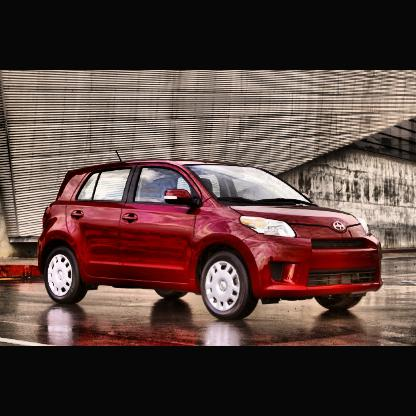Scion xD Hatchback 2012: (39, 150, 386, 320)
